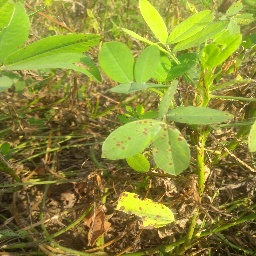GroundNut_Leaf: (1, 32, 97, 77), (101, 120, 154, 159), (117, 192, 174, 226), (155, 122, 190, 177), (98, 39, 134, 89), (171, 11, 213, 42), (139, 1, 169, 44), (215, 11, 244, 44), (1, 1, 32, 31), (166, 107, 237, 120), (136, 45, 158, 85), (206, 44, 230, 70)
